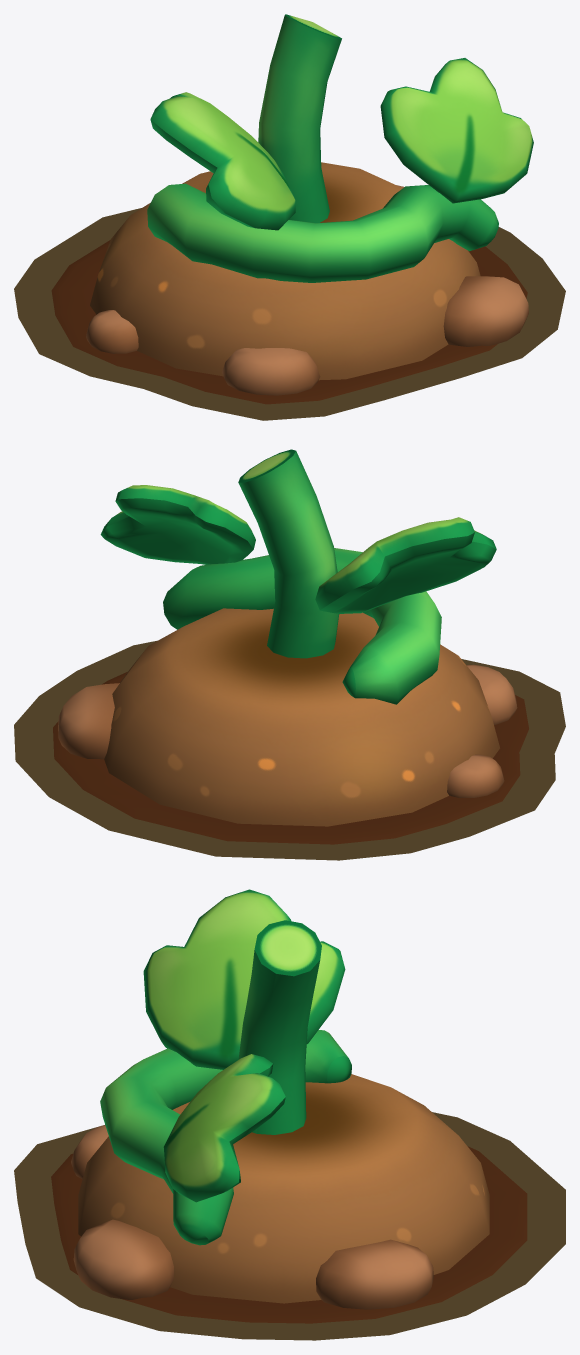
The model's file is Pumpkin_L01.fbx.
3 renders of one model, top to bottom at view 1: azimuth 30°, elevation 25°; view 2: azimuth 150°, elevation 25°; view 3: azimuth 270°, elevation 25°, orthographic. The views are drawn at different scales.
Visible parts, largest first — view 1: Pumpkin01_body, Pump01SDW1; view 2: Pumpkin01_body, Pump01SDW1; view 3: Pumpkin01_body, Pump01SDW1.
Part boxes in pixels (x1,y1,x2,y2): Pumpkin01_body: [51, 14, 533, 404]; Pump01SDW1: [14, 208, 565, 420]; Pumpkin01_body: [53, 449, 528, 844]; Pump01SDW1: [14, 640, 565, 860]; Pumpkin01_body: [51, 889, 527, 1323]; Pump01SDW1: [14, 1112, 565, 1340].
Size of the model in its own units: 111 by 62.51 by 104.
2 materials, 1 textured.
